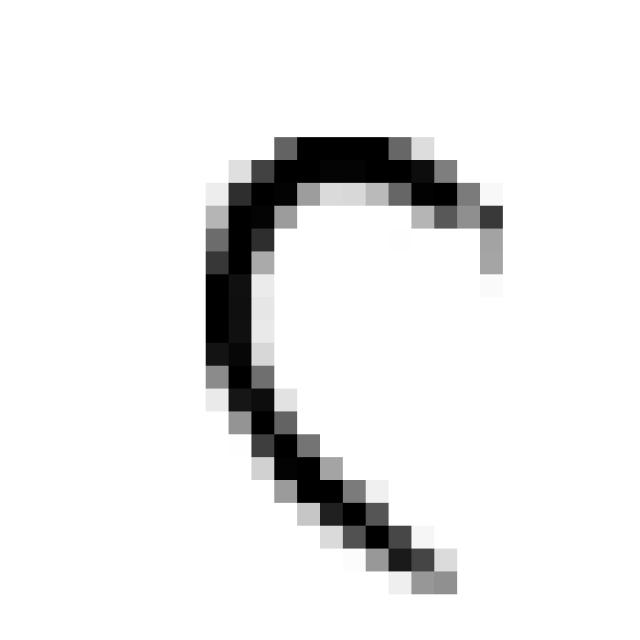2 -two-: (185, 114, 525, 609)
